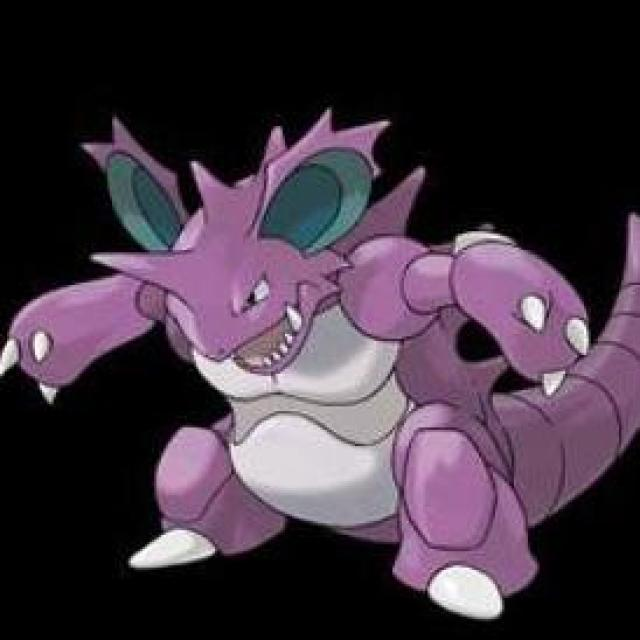Nidoking: (8, 113, 600, 573)
